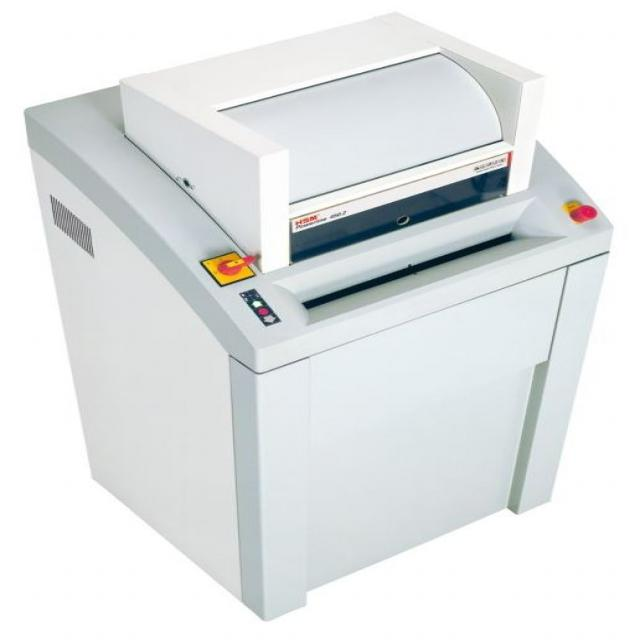palette: (25, 11, 615, 618)
